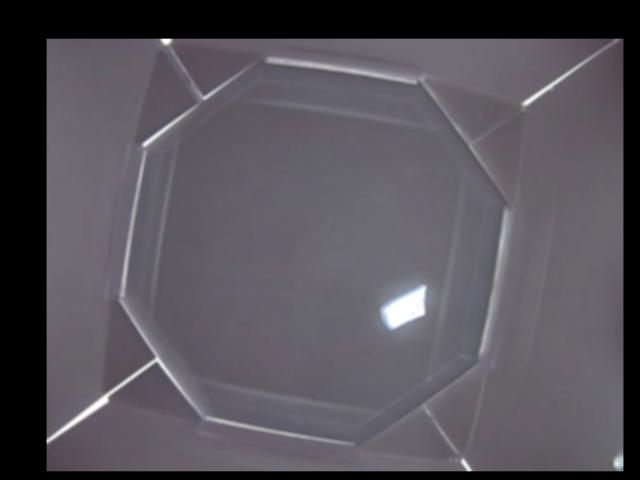China: (378, 279, 434, 329)
